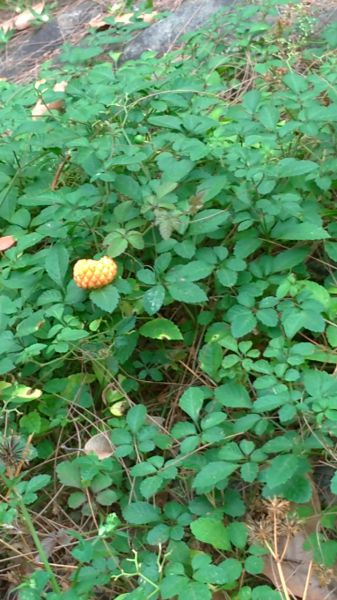eggs: (67, 252, 120, 291)
